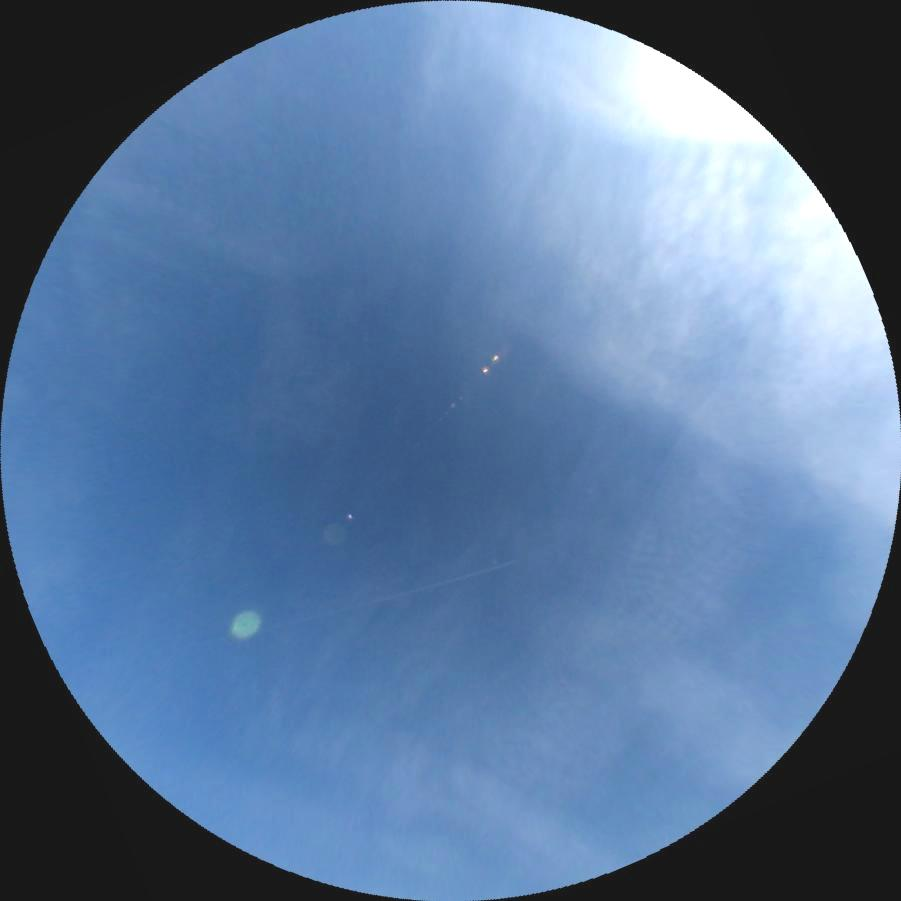contrail young: (285, 557, 521, 628)
